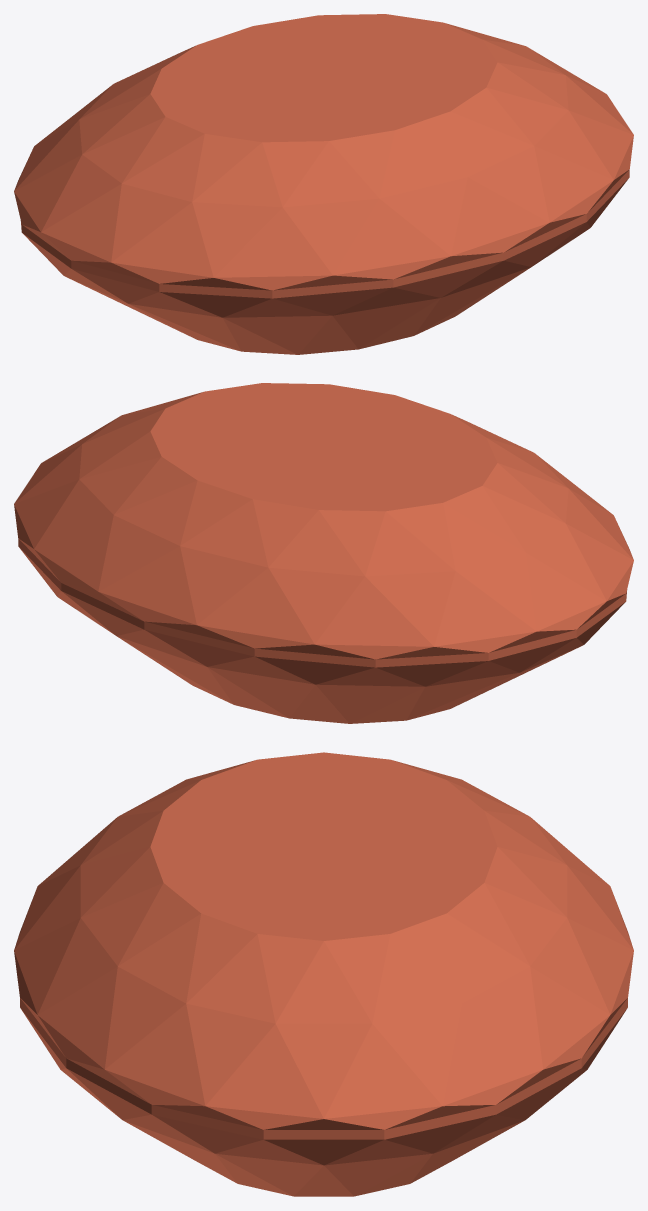
The model's file is pukhraj.glb.
The picture shows the model from 3 angles, top to bottom: view 1: azimuth 30°, elevation 25°; view 2: azimuth 150°, elevation 25°; view 3: azimuth 270°, elevation 25°; orthographic projection. The views are drawn at different scales.
Parts seen in each view (by area): view 1: stone; view 2: stone; view 3: stone.
Part boxes in pixels (box(x1,y1,x2,y2)): stone: box(14, 14, 633, 354); stone: box(14, 383, 633, 723); stone: box(14, 752, 633, 1196).
Size of the model in its own units: 0.9 by 0.3468 by 0.7.
